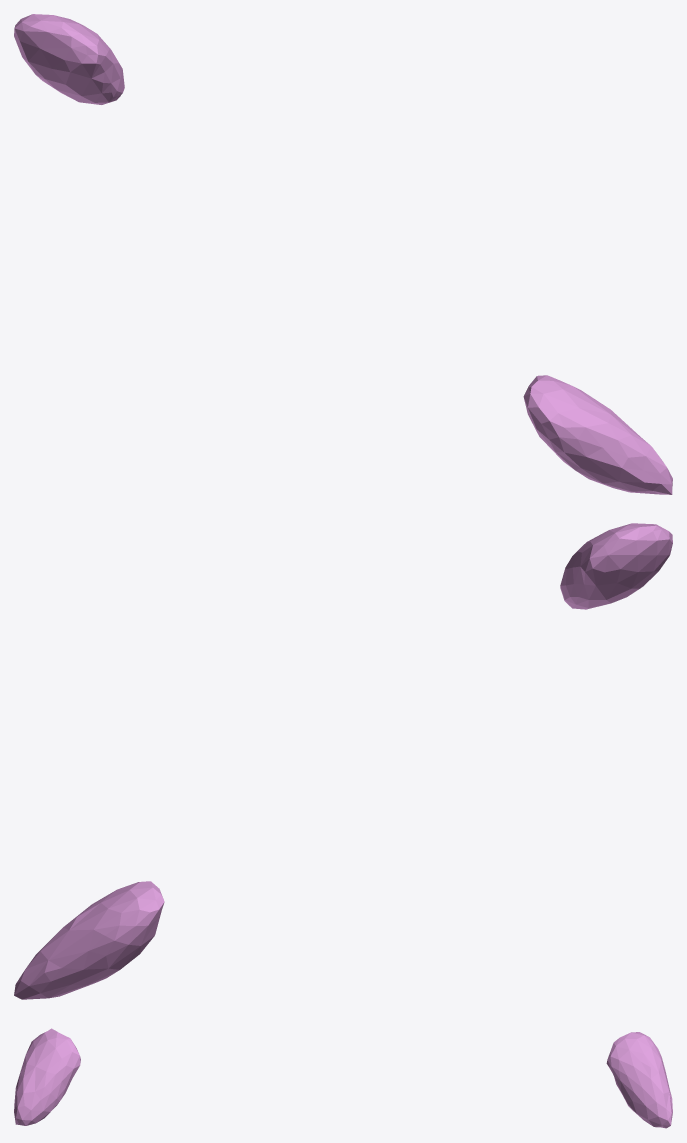
3 renders of one model, top to bottom at view 1: azimuth 30°, elevation 25°; view 2: azimuth 150°, elevation 25°; view 3: azimuth 270°, elevation 25°, orthographic. The views are drawn at different scales.
Visible parts, largest first — view 1: 271.obj; view 2: 271.obj; view 3: 271.obj.
Boxes of the visible parts, x1=… form: 271.obj: x1=14, y1=14, x2=672, y2=494; 271.obj: x1=14, y1=523, x2=672, y2=999; 271.obj: x1=14, y1=1028, x2=672, y2=1128.
Size of the model in its own units: 528 by 482 by 4185.
